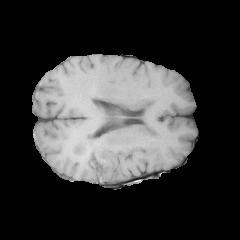glioma: (64, 98, 160, 182)
